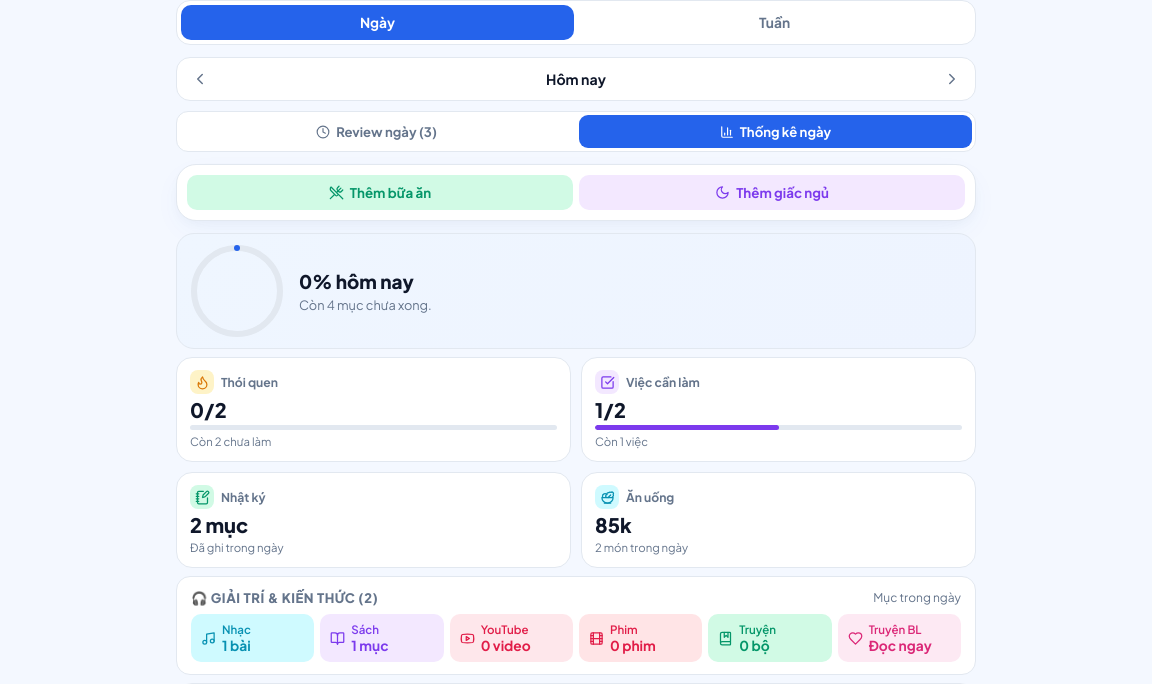
it: HomePage › làm nổi bật nhật ký và bài nhạc đã yêu thích trong ngày
Click the tab "Review ngày (3)" at (376, 132), box [180,115,573,148]
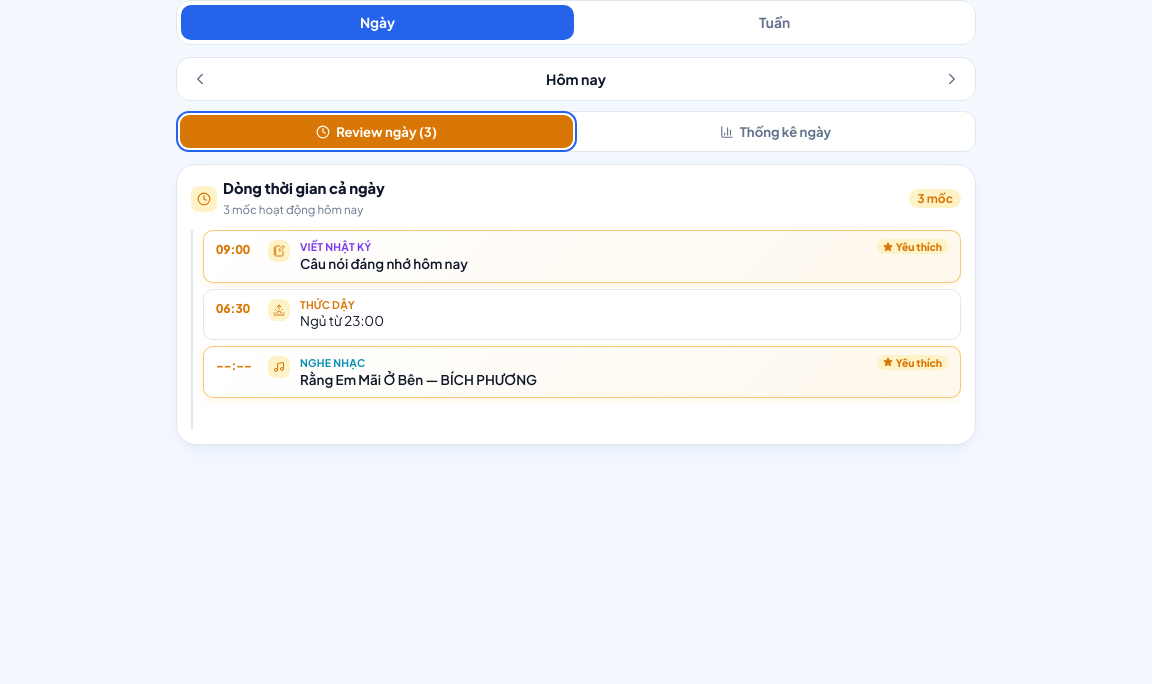
expect the text "Câu nói đáng nhớ hôm nay" is shown: met, box [300,255,468,272]
expect the text "Yêu thích" in the row of "Viết nhật ký" is shown: met, box [896,240,942,253]
